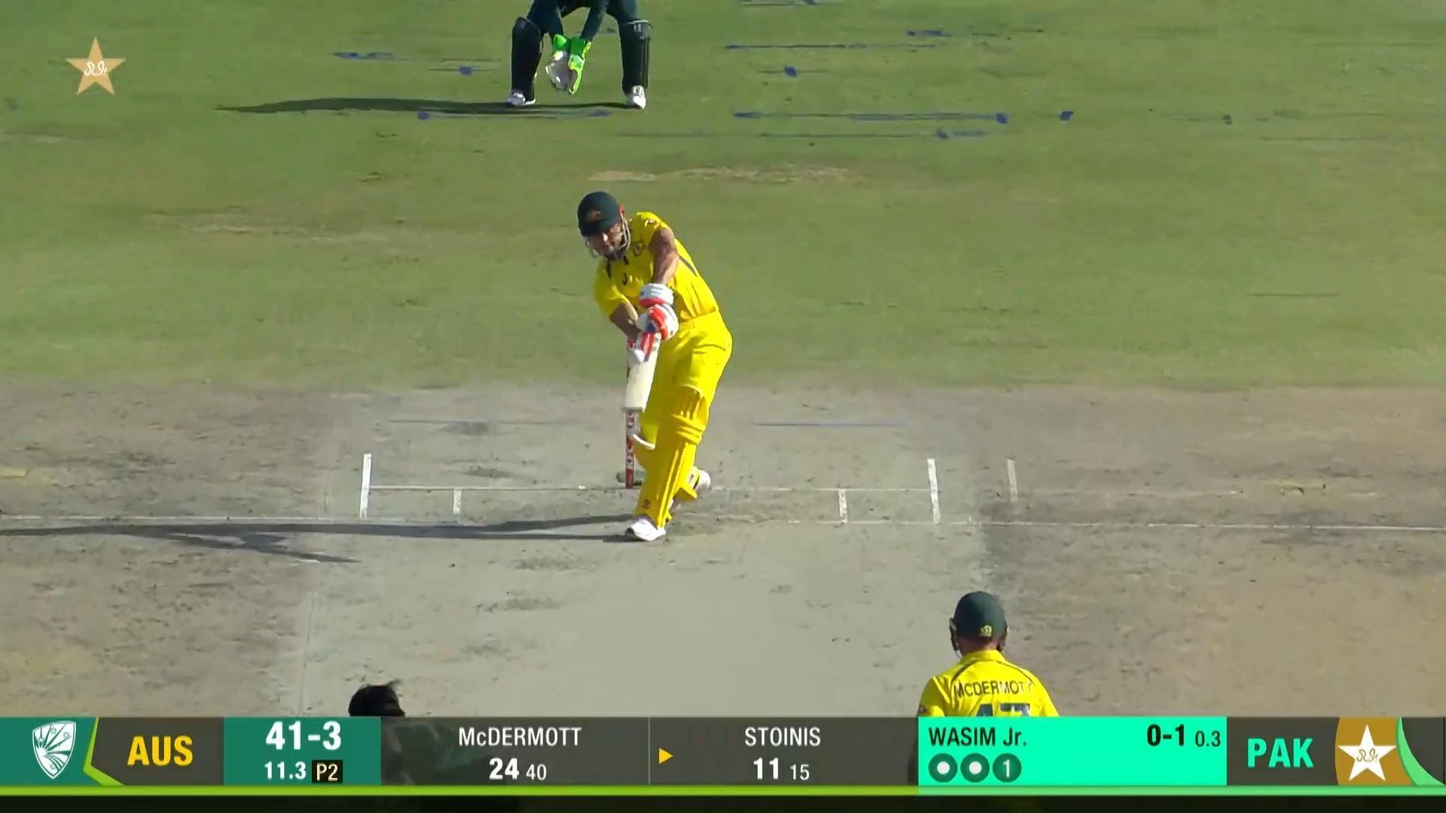BM 1: (576, 190, 732, 543)
BO: (347, 679, 517, 810)
